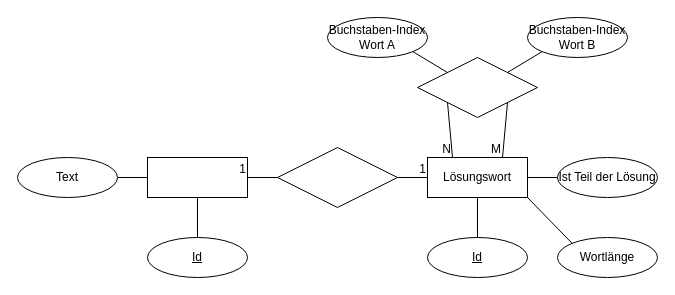
This 675x295 diagram has some shape labels left out. Each missing label, with the centre of its shape:
Fragestellung: the point at 197,177
Gehört zu: the point at 337,177
Schneidet sich mit: the point at 477,87
